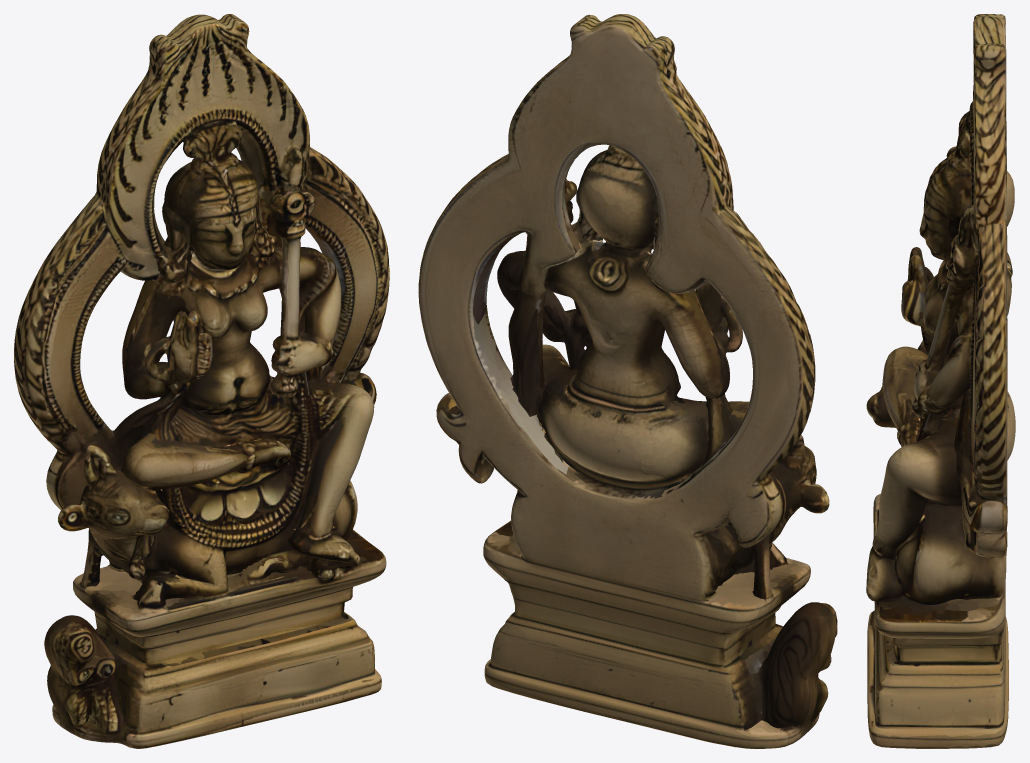
The picture shows the model from 3 angles, left to right: view 1: azimuth 30°, elevation 25°; view 2: azimuth 150°, elevation 25°; view 3: azimuth 270°, elevation 25°; orthographic projection. The views are drawn at different scales.
Visible parts, largest first — view 1: textured_mesh; view 2: textured_mesh; view 3: textured_mesh.
Part boxes in pixels (x1,y1,x2,y2): textured_mesh: (14, 14, 389, 748); textured_mesh: (418, 14, 837, 748); textured_mesh: (866, 14, 1015, 748).
Size of the model in its own units: 1.16 by 1.99 by 0.4037.
Materials: 1 (1 with a texture image).
